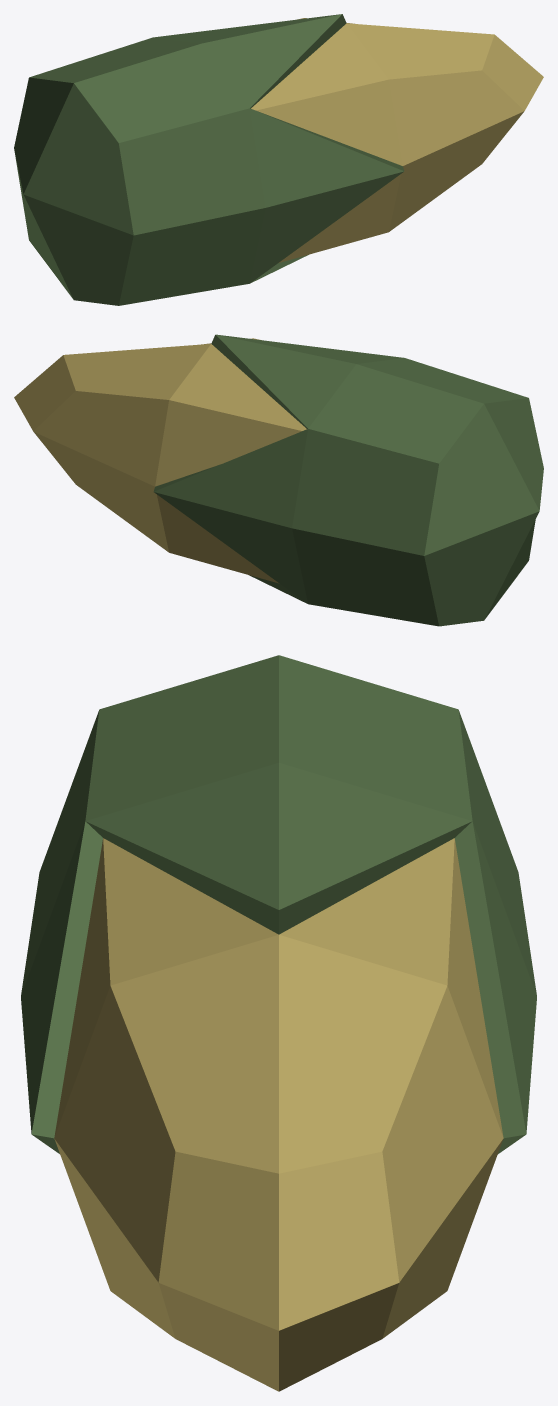
Rendered from Corn_Crop.glb.
3 views of the same model, one above another, from view 1: azimuth 30°, elevation 25°; view 2: azimuth 150°, elevation 25°; view 3: azimuth 270°, elevation 25° (orthographic). The views are drawn at different scales.
Visible parts, largest first — view 1: Corn_Crop; view 2: Corn_Crop; view 3: Corn_Crop.
Boxes of the visible parts, x1,y1,x2,y2 form: Corn_Crop: (14, 14, 543, 305); Corn_Crop: (14, 334, 543, 626); Corn_Crop: (21, 655, 536, 1391).
Size of the model in its own units: 0.3482 by 0.1488 by 0.1488.
